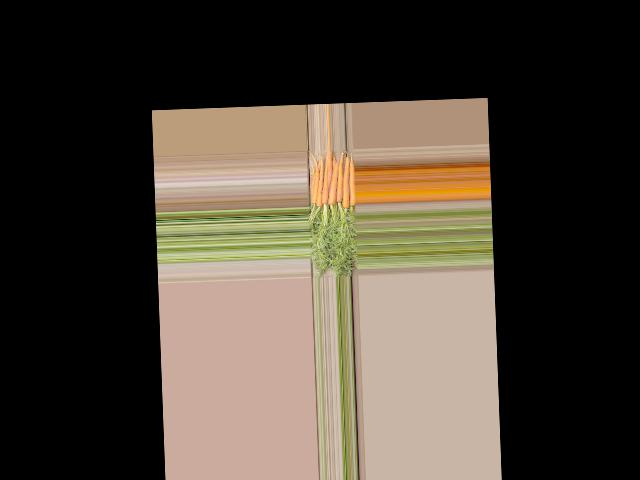carrot: (345, 156, 356, 208)
